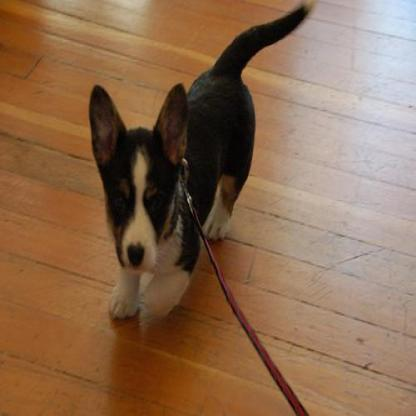Cardigan: (86, 0, 308, 335)
